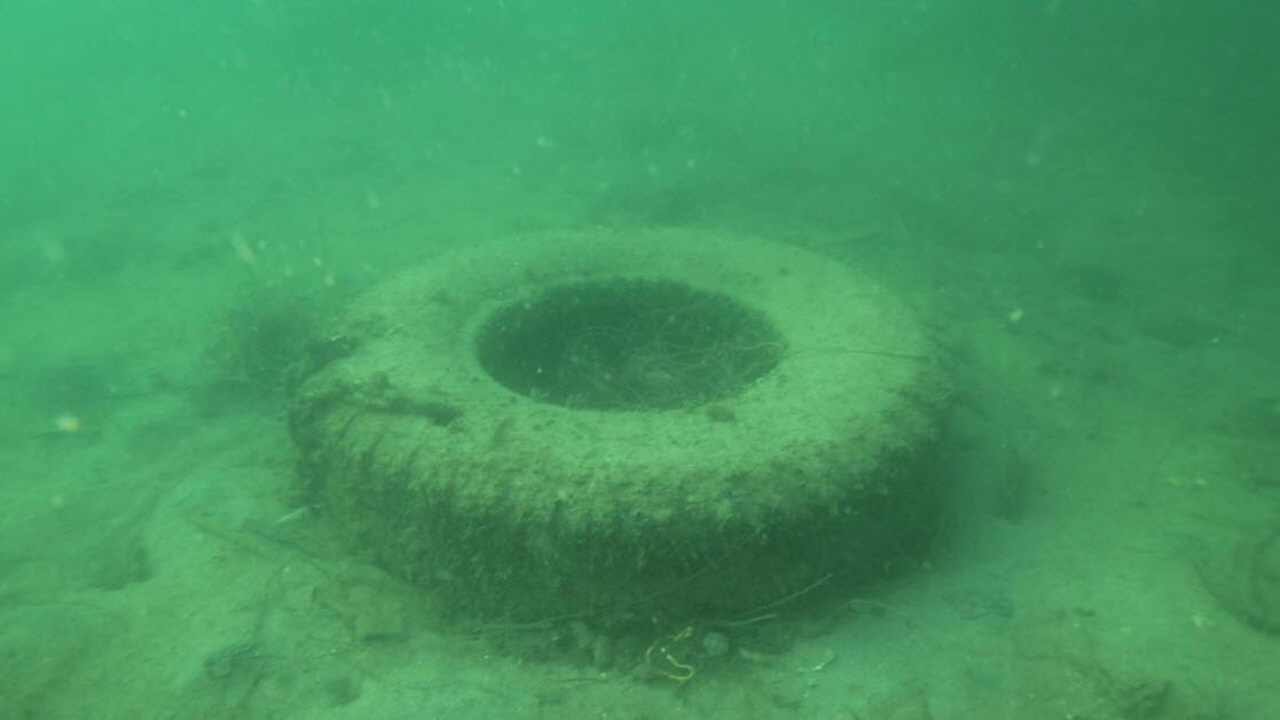tire: (287, 224, 958, 626)
